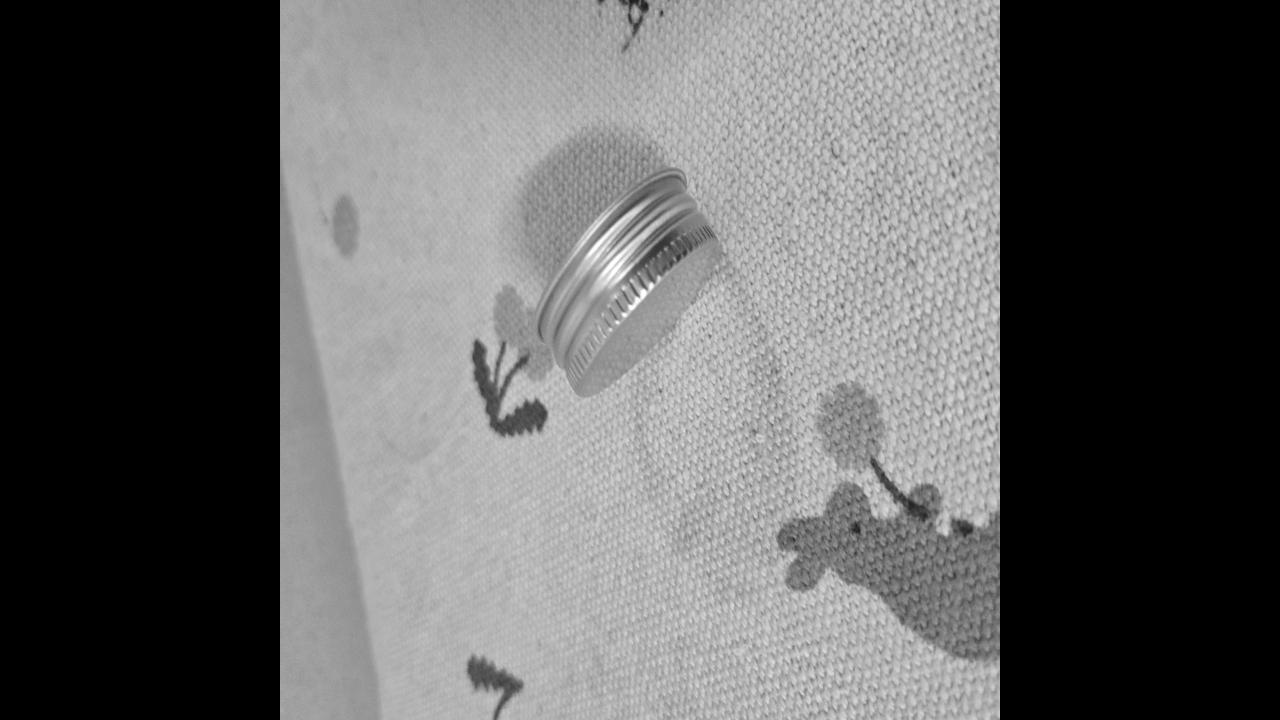bottle_cap: (528, 164, 728, 406)
